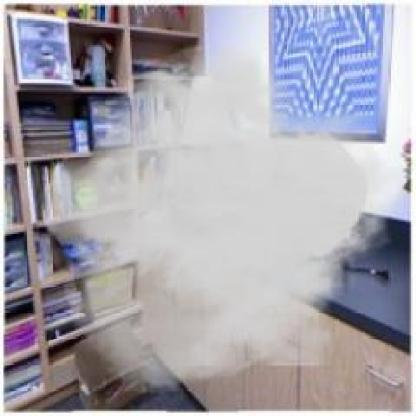Smoke: (41, 41, 404, 398)
